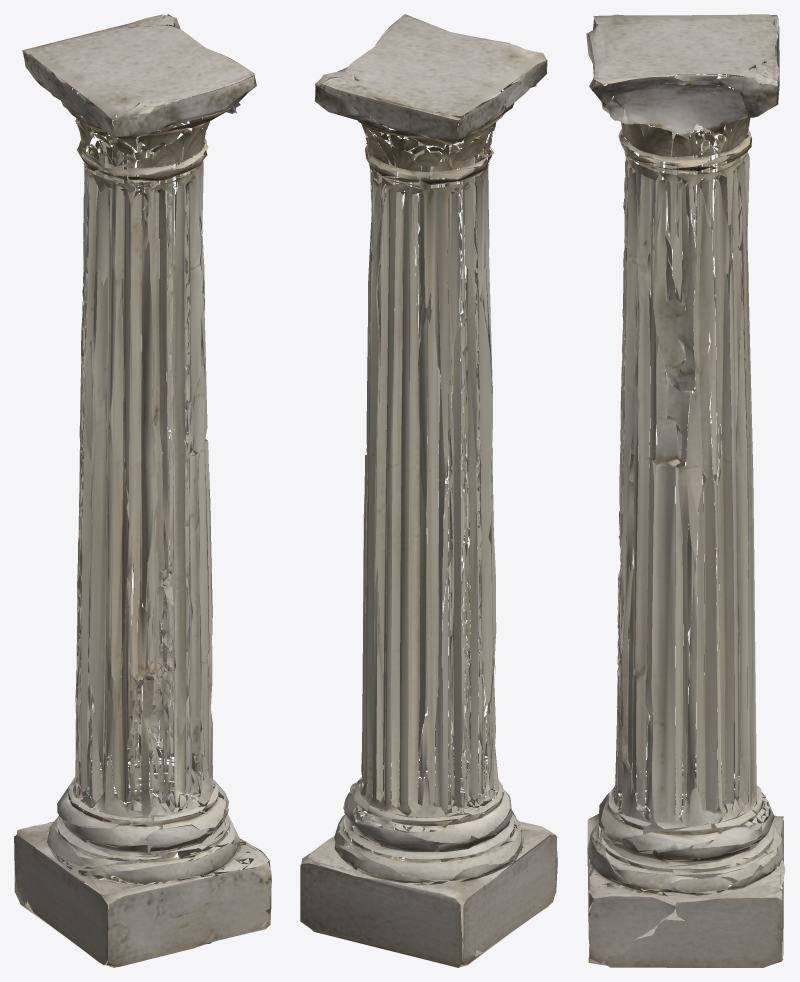
File: pillar.glb
3 renders of one model, left to right at view 1: azimuth 30°, elevation 25°; view 2: azimuth 150°, elevation 25°; view 3: azimuth 270°, elevation 25°, orthographic. The views are drawn at different scales.
Parts seen in each view (by area): view 1: node_0; view 2: node_0; view 3: node_0.
Boxes of the visible parts, x1=… form: node_0: x1=14, y1=14, x2=271, y2=967; node_0: x1=300, y1=14, x2=557, y2=967; node_0: x1=586, y1=14, x2=785, y2=967.
Bounding box in the file's own units: 0.3545 × 1.75 × 0.3577.
1 material, 1 textured.
